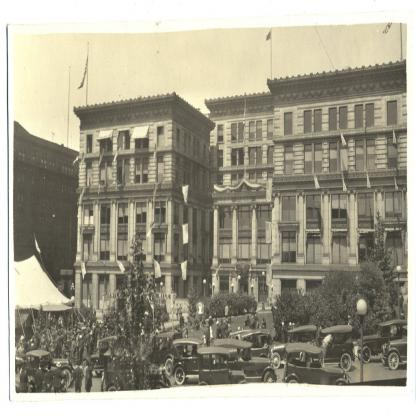Car: (15, 320, 407, 392)
